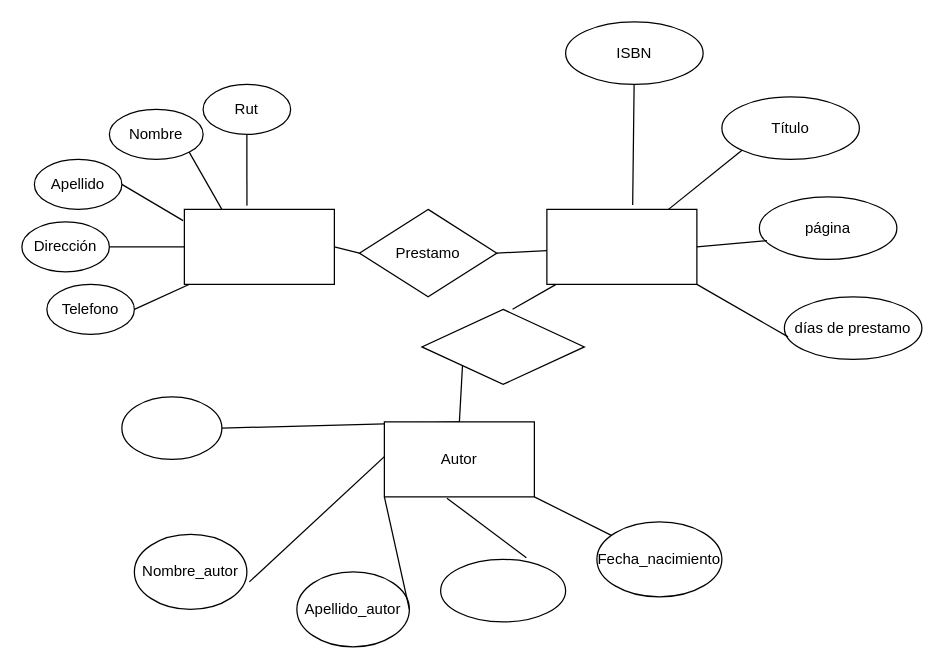
Some shapes in this 944 by 669 pixel diagram are drawn without their labels. The shapes that lost their labels are listed below. From the top down, each one's centre as x and y in pixels, then its label:
pixel 258 246: Socios
pixel 621 246: Libro
pixel 502 346: libro tiene autor
pixel 171 427: Cód_autor
pixel 502 590: Fecha_muerte
